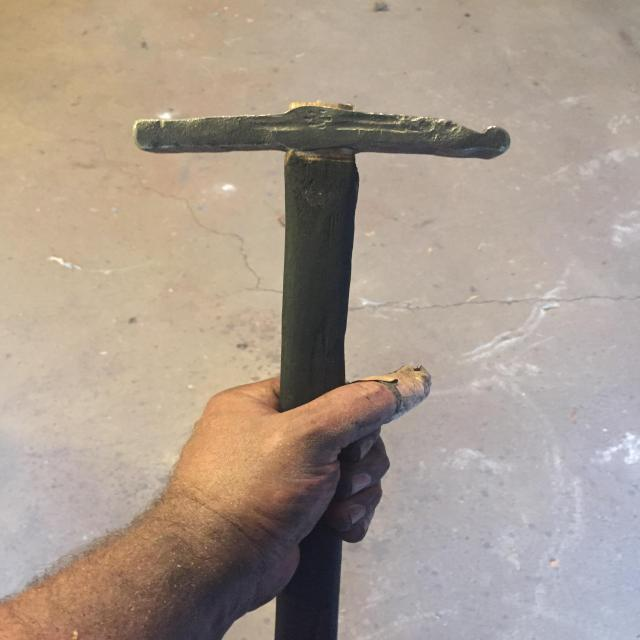hammer: (118, 90, 516, 638)
